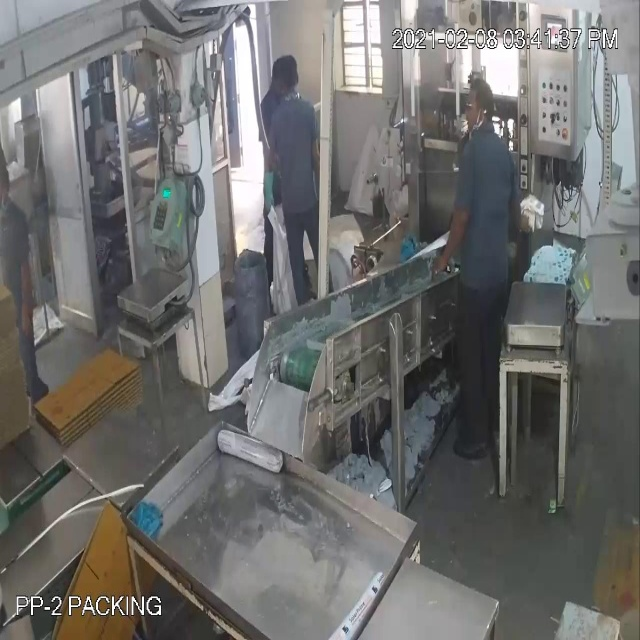Sin_guantes: (429, 184, 474, 281)
